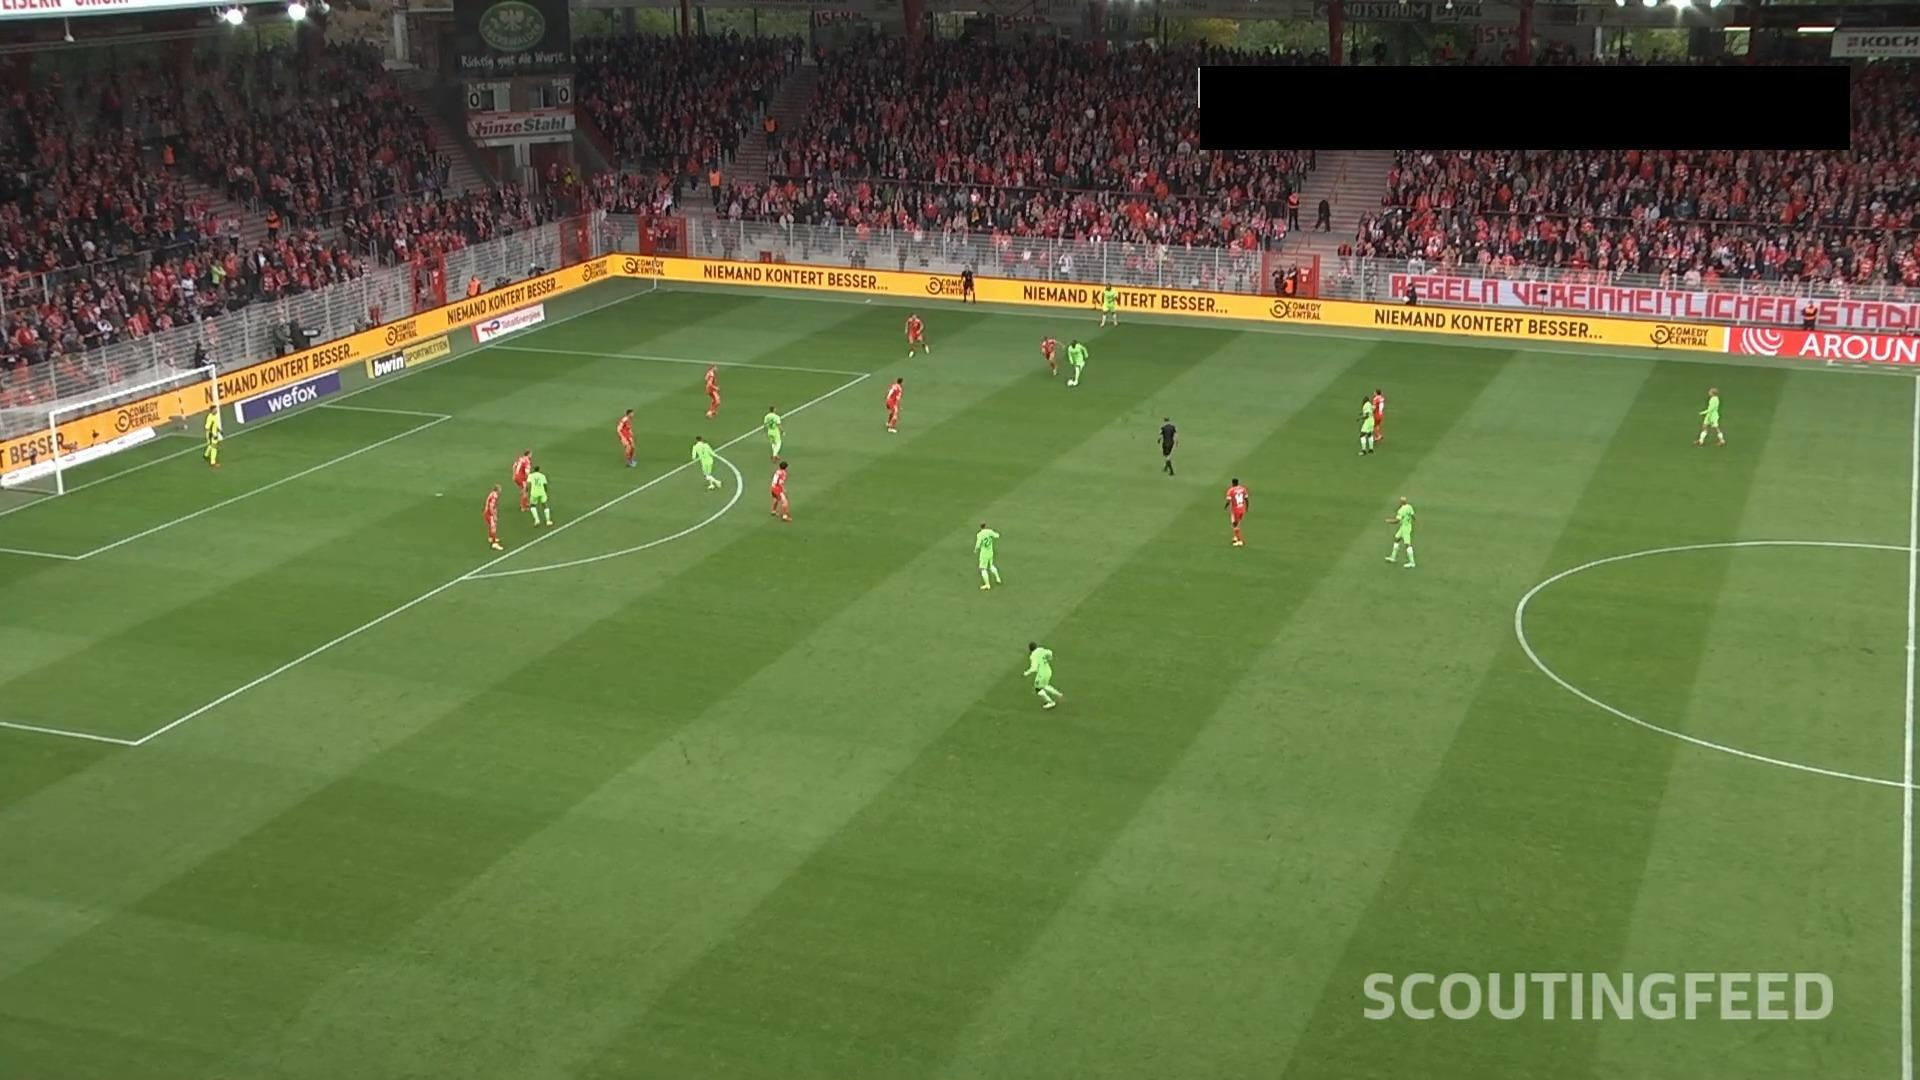ball: (1065, 378, 1075, 388)
